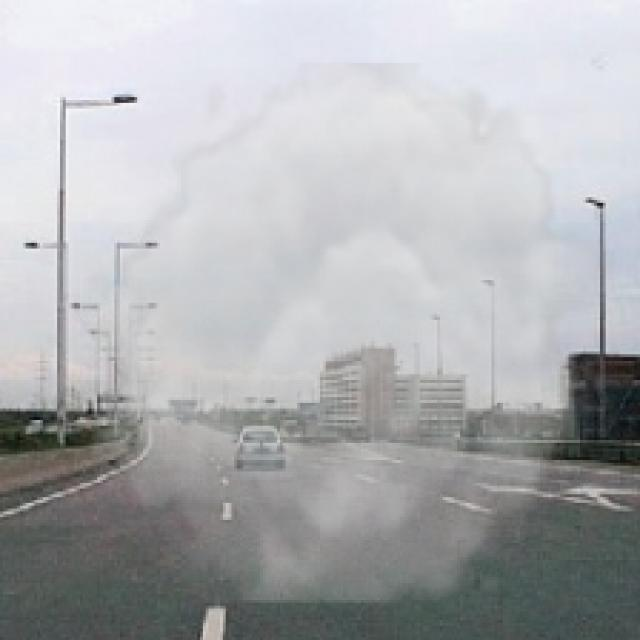Smoke: (68, 63, 614, 603)
